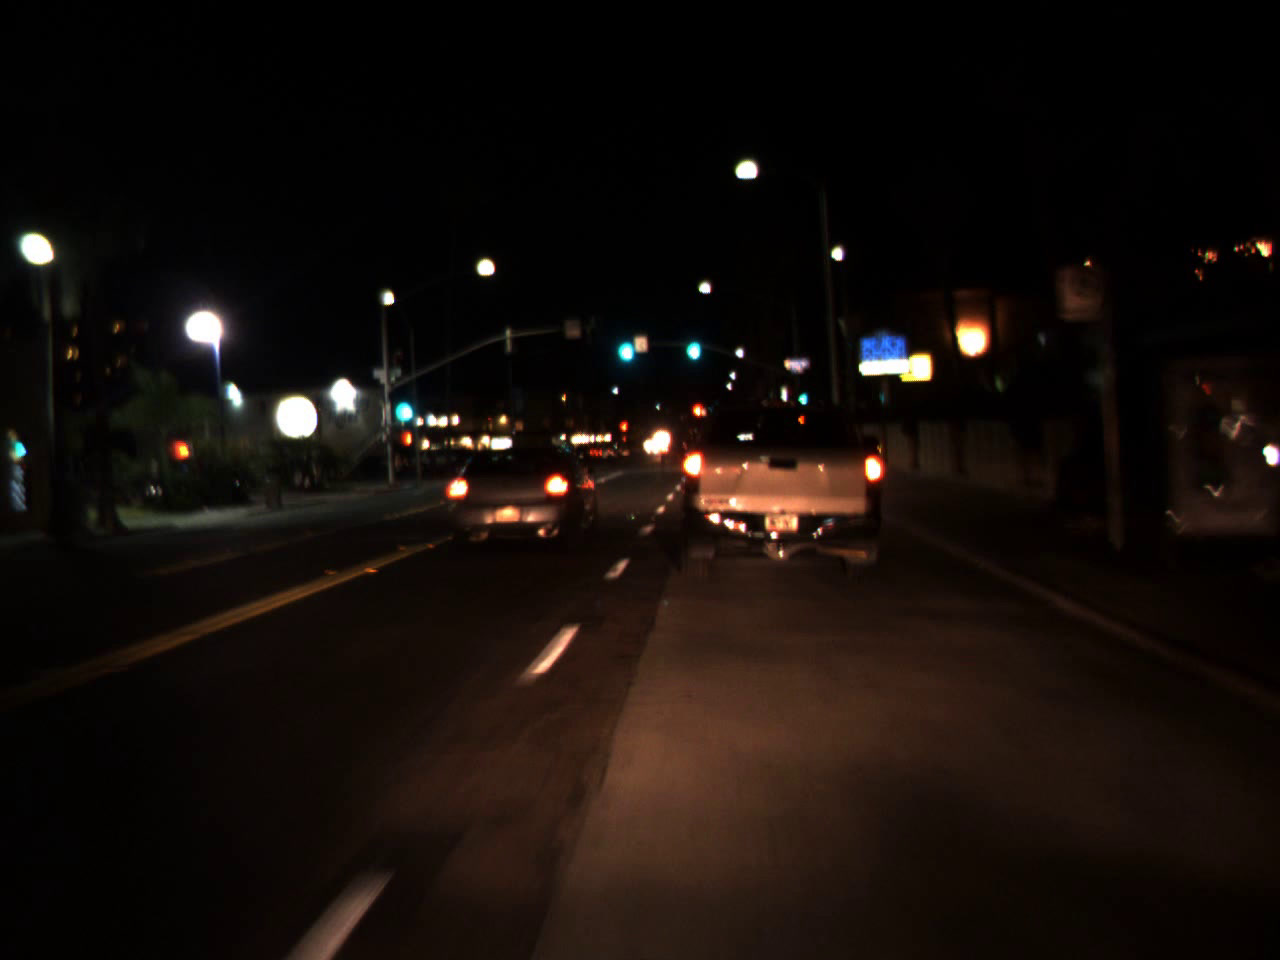go: (388, 378, 415, 429), (612, 320, 637, 368), (680, 320, 703, 365), (796, 383, 806, 407)
